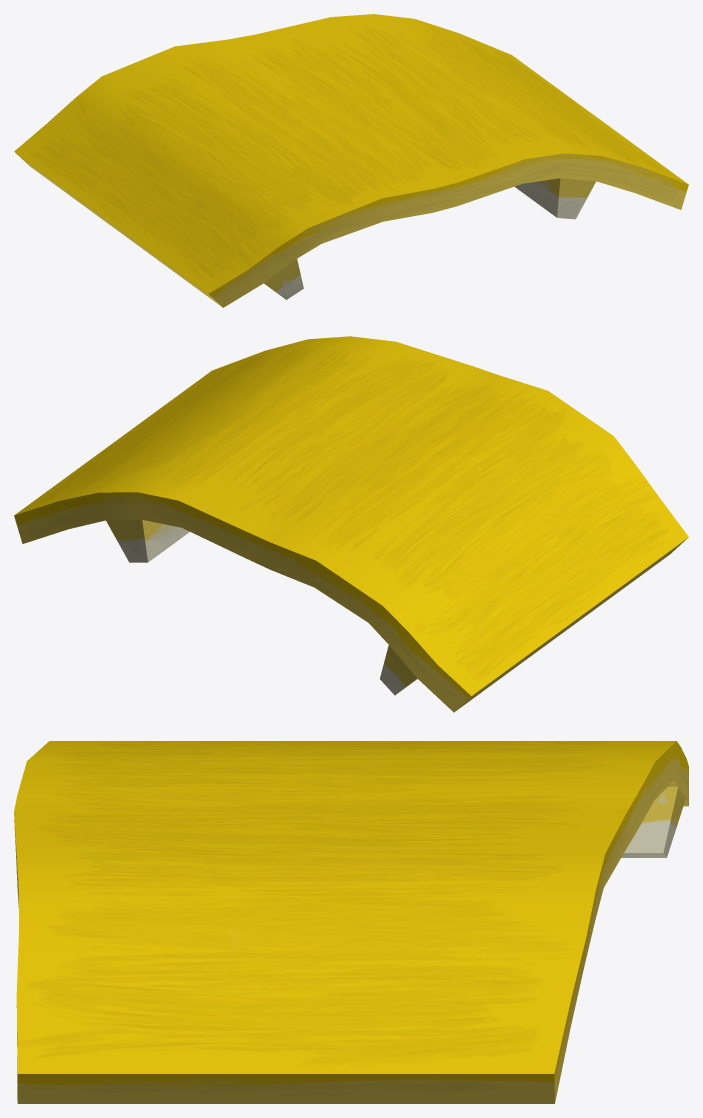
File: YellowPepper.gltf
3 views of the same model, one above another, from view 1: azimuth 30°, elevation 25°; view 2: azimuth 150°, elevation 25°; view 3: azimuth 270°, elevation 25° (orthographic). The views are drawn at different scales.
Visible parts, largest first — view 1: yellowpepper; view 2: yellowpepper; view 3: yellowpepper.
Part boxes in pixels (left/top/right/bottom): yellowpepper: left=14, top=14, right=688, bottom=307; yellowpepper: left=14, top=336, right=688, bottom=712; yellowpepper: left=14, top=741, right=688, bottom=1103.
Bounding box in the file's own units: 0.0949 × 0.0215 × 0.0807.
1 material, 1 textured.
